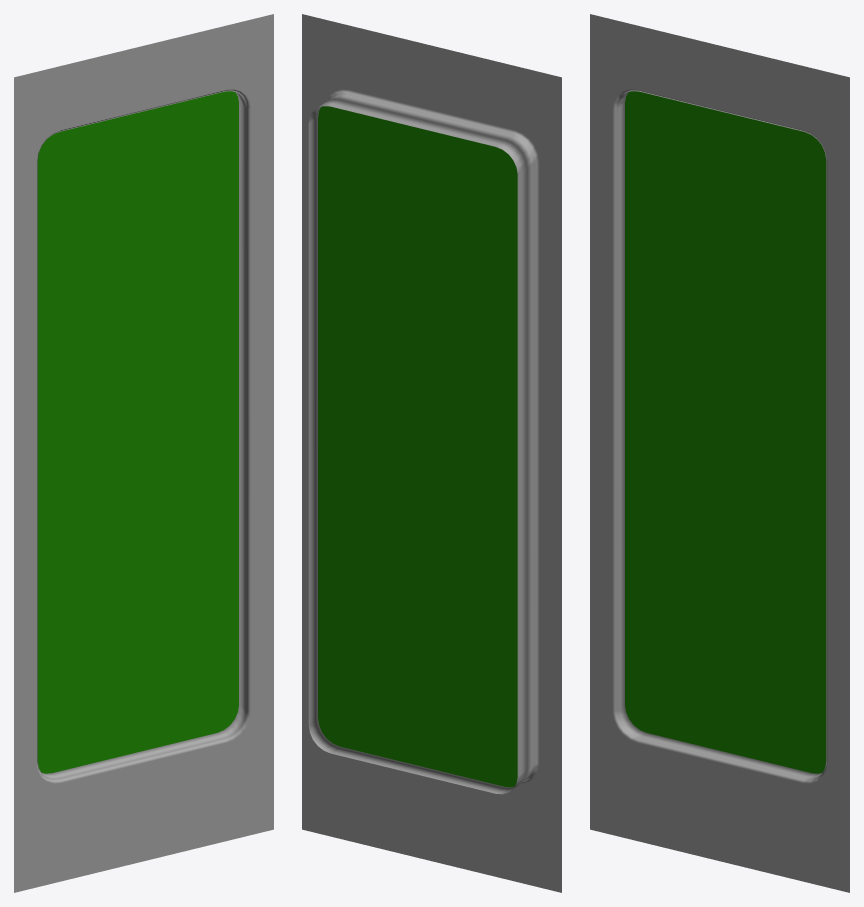
File: Wall_365_4x10_Window.fbx
3 renders of one model, left to right at view 1: azimuth 30°, elevation 25°; view 2: azimuth 150°, elevation 25°; view 3: azimuth 330°, elevation 25°, orthographic.
Parts seen in each view (by area): view 1: Wall_365_4x10_Window; view 2: Wall_365_4x10_Window; view 3: Wall_365_4x10_Window.
Boxes of the visible parts, bbox=[...] form: Wall_365_4x10_Window: bbox=[14, 14, 273, 892]; Wall_365_4x10_Window: bbox=[302, 14, 561, 892]; Wall_365_4x10_Window: bbox=[590, 14, 849, 892].
Bounding box in the file's own units: 4 × 12 × 0.5.
